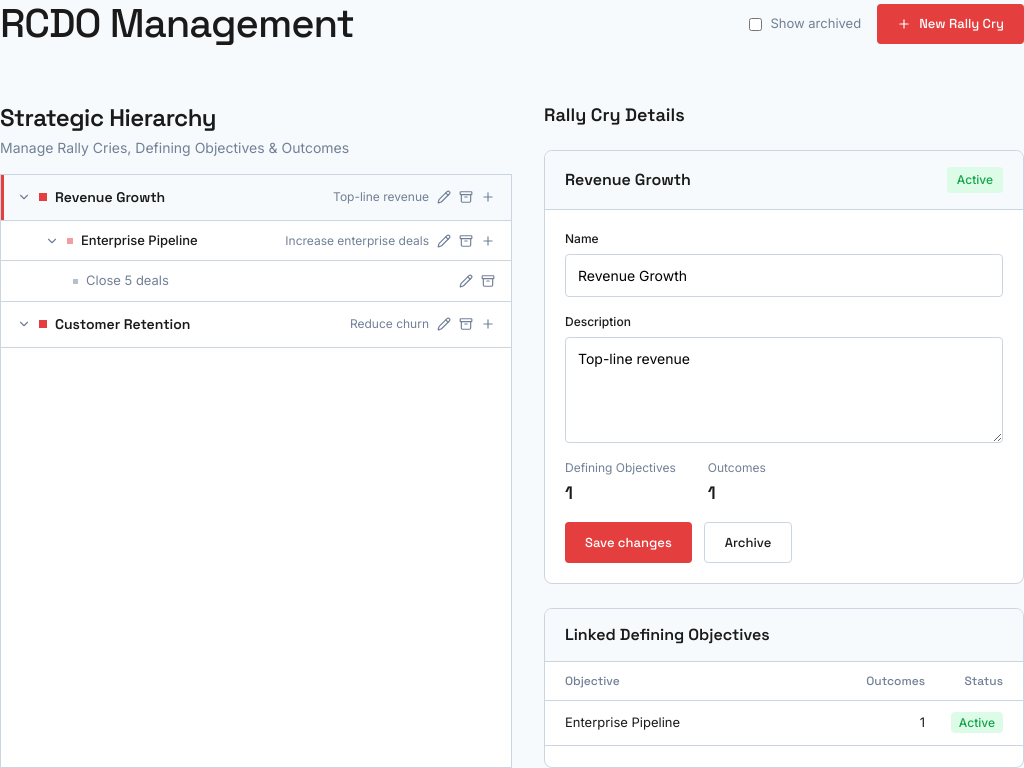
Test case: StrategyManagementPage › clicking New Rally Cry shows the create modal
Step 1. Click the button with test id "create-rally-cry-btn" → (951, 24), box x1=877 y1=4 x2=1023 y2=44
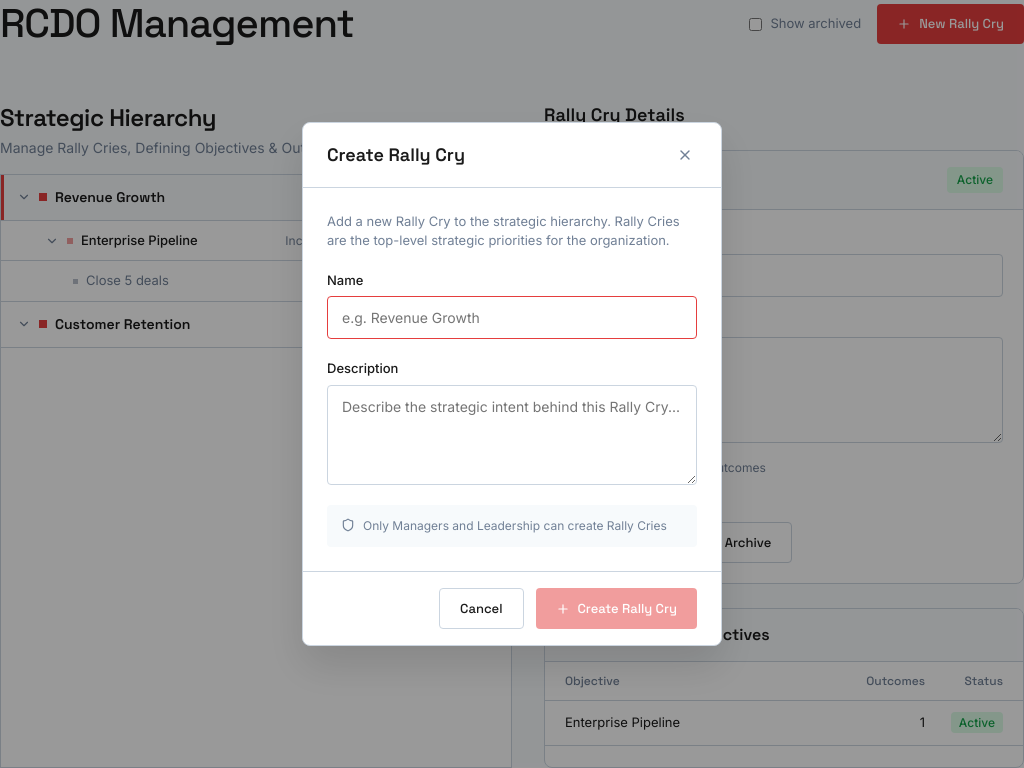
Result: the dialog with test id "create-rally-cry-modal" is shown at x1=302 y1=122 x2=722 y2=646
